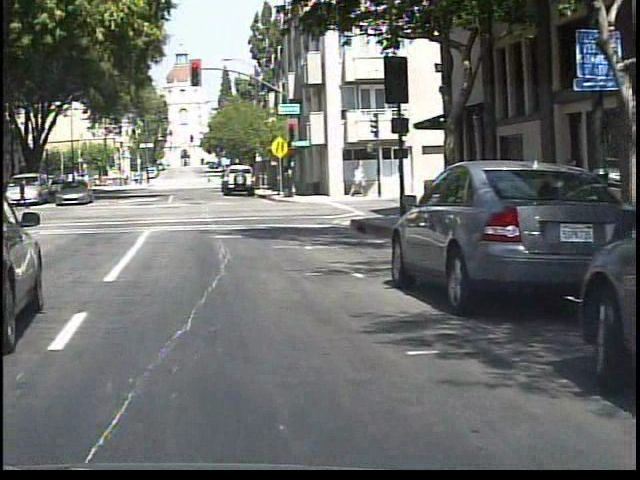person: (15, 173, 29, 213), (204, 173, 218, 190), (2, 175, 3, 212)
